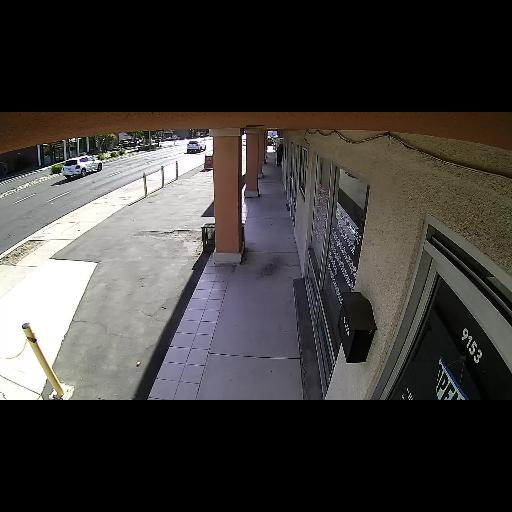car: (59, 155, 103, 180), (185, 139, 206, 154)
